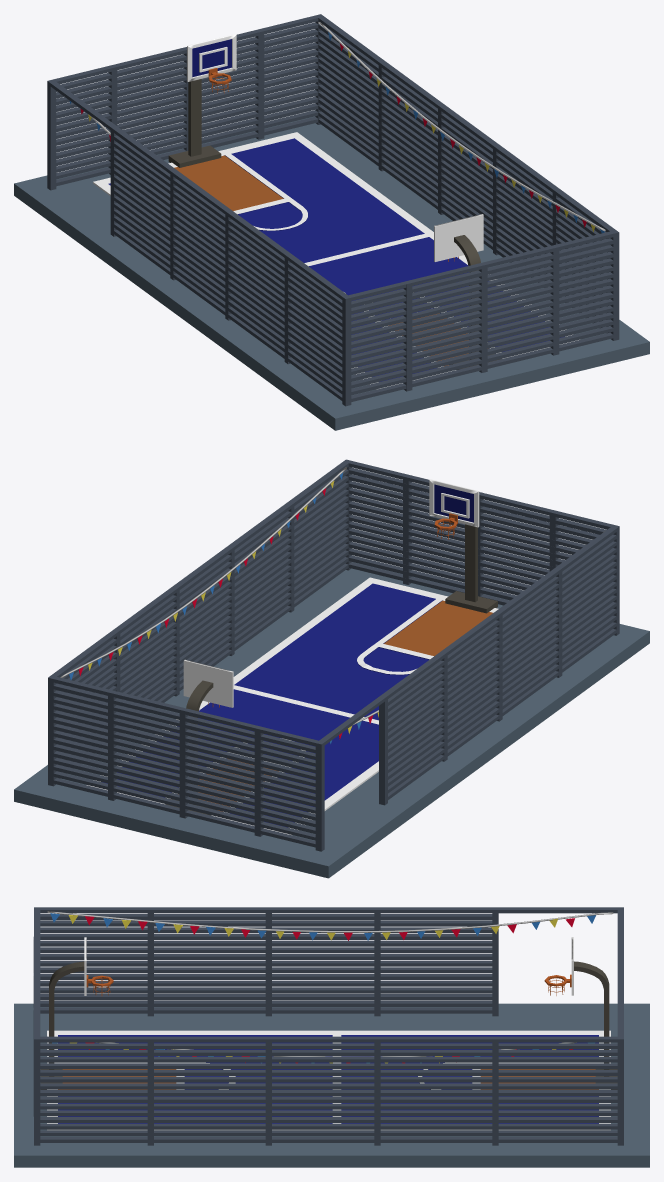
The model's file is Basketball Court.fbx.
The picture shows the model from 3 angles, top to bottom: view 1: azimuth 30°, elevation 25°; view 2: azimuth 150°, elevation 25°; view 3: azimuth 270°, elevation 25°; orthographic projection.
Visible parts, largest first — view 1: Ground, court, Ring, BANDERITAS.026; view 2: Ground, court, Ring, BANDERITAS.026; view 3: Ground, court, BANDERITAS.026, Ring.
Boxes of the visible parts, <box> form: Ground: <box>14,14,649,430</box>; court: <box>93,132,579,389</box>; Ring: <box>168,34,500,369</box>; BANDERITAS.026: <box>69,22,605,293</box>; Ground: <box>14,459,649,878</box>; court: <box>86,577,498,835</box>; Ring: <box>165,479,497,815</box>; BANDERITAS.026: <box>60,467,605,743</box>; Ground: <box>14,907,649,1167</box>; court: <box>47,1030,610,1130</box>; BANDERITAS.026: <box>47,911,613,1063</box>; Ring: <box>40,937,617,1089</box>.
Bounding box in the file's own units: 3236 × 1426 × 5722.
